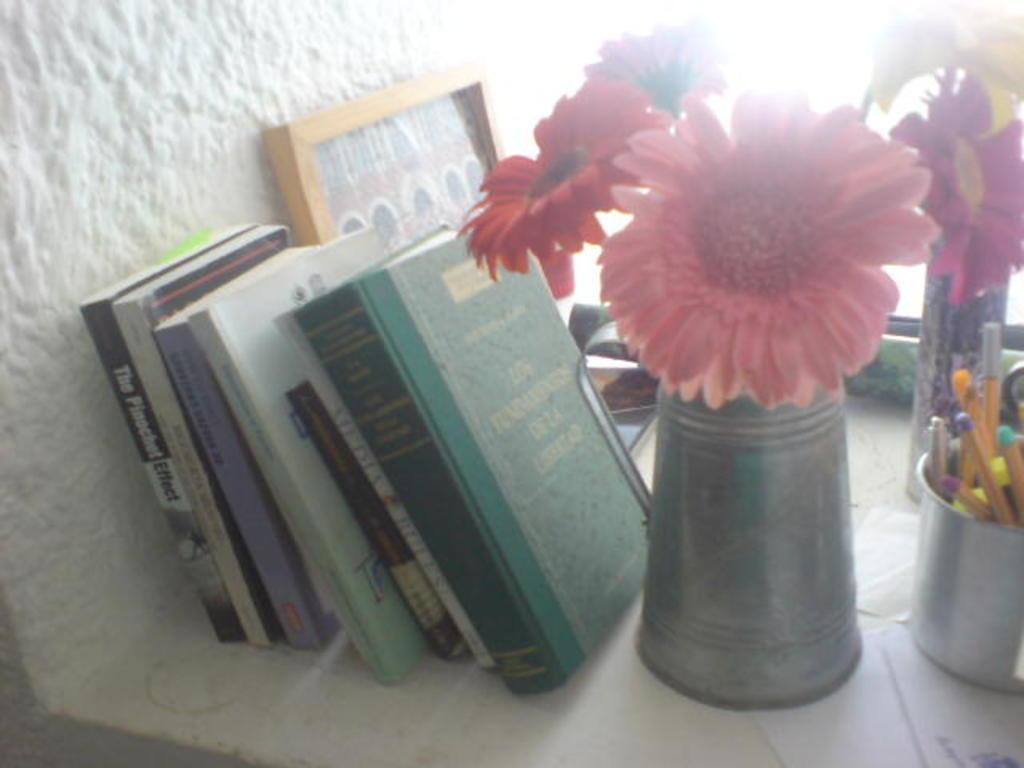Book: (85, 219, 659, 710)
